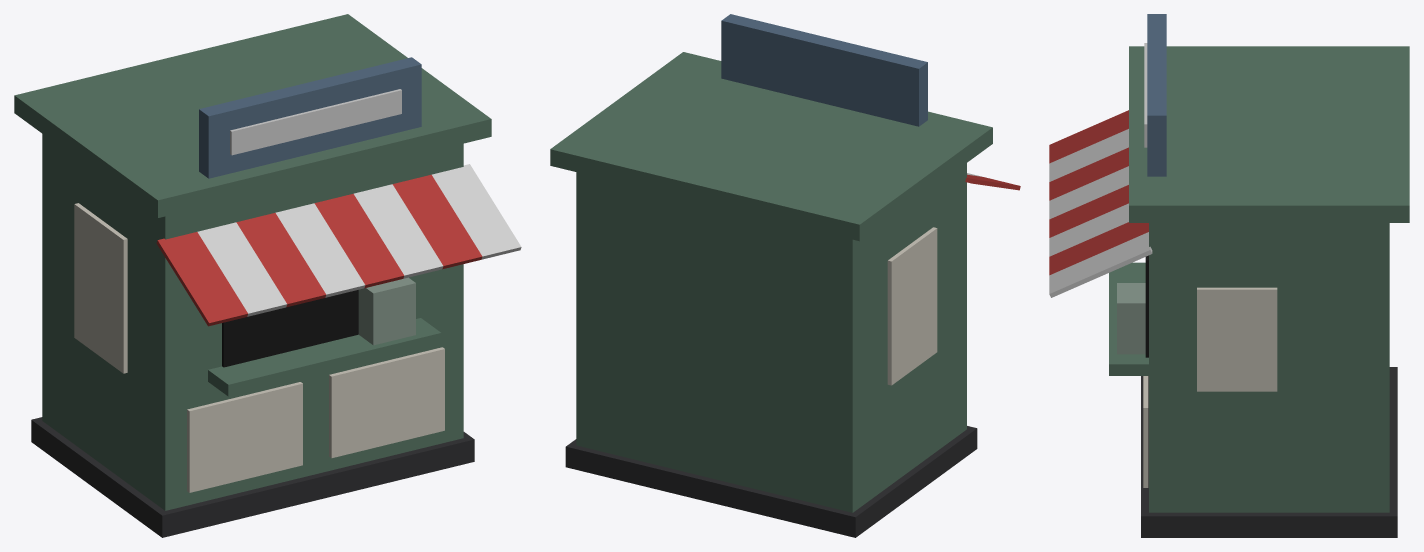
Rendered from objet_kiosque.glb.
3 views of the same model, side by side, from view 1: azimuth 30°, elevation 25°; view 2: azimuth 150°, elevation 25°; view 3: azimuth 270°, elevation 25° (orthographic). The views are drawn at different scales.
Visible parts, largest first — view 1: objet_kiosque; view 2: objet_kiosque; view 3: objet_kiosque.
Boxes of the visible parts, <box> form: objet_kiosque: <box>14,14,521,537</box>; objet_kiosque: <box>550,14,1020,537</box>; objet_kiosque: <box>1049,14,1409,537</box>.
Size of the model in its own units: 2.35 by 2.74 by 2.25.
